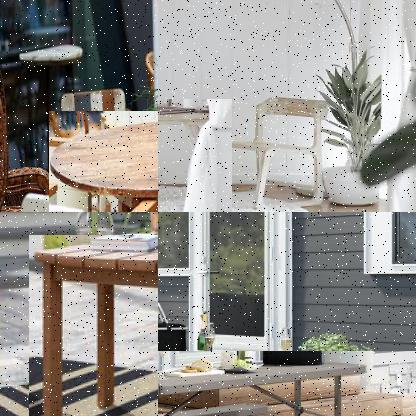table: (29, 235, 157, 415), (158, 351, 415, 415), (49, 111, 157, 211), (158, 98, 234, 211)
